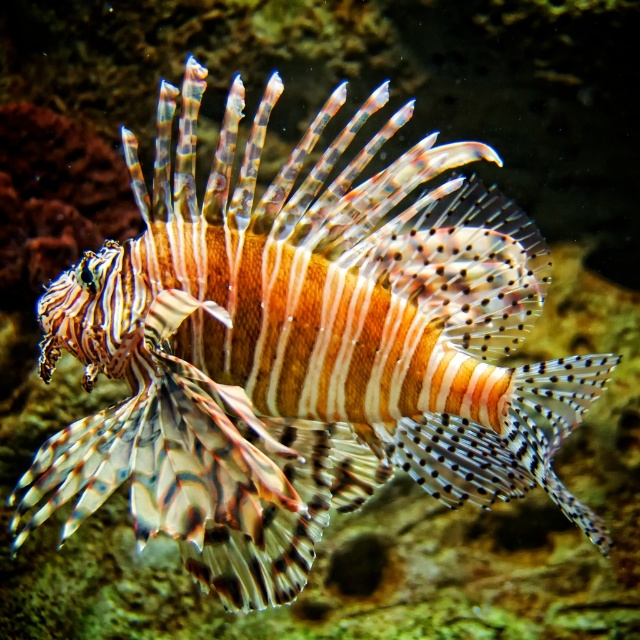Fish: (7, 55, 624, 615)
